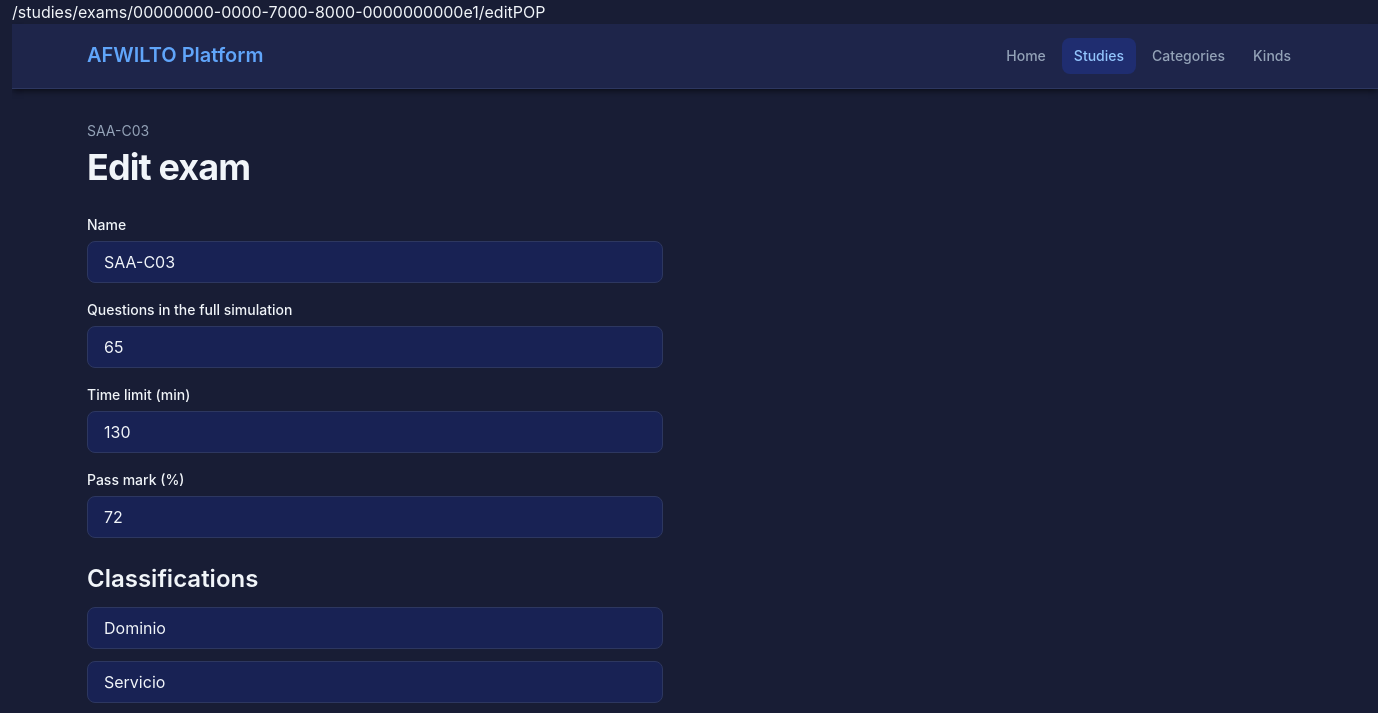
Test: ExamEditPage: server failures › other violations are shown as an alert
The width and height of the screenshot is (1378, 713).
Replace the text in the number field labelled "Pass mark (%)" with "80" at (375, 517), box [87,496,663,538]
(page scrolled)
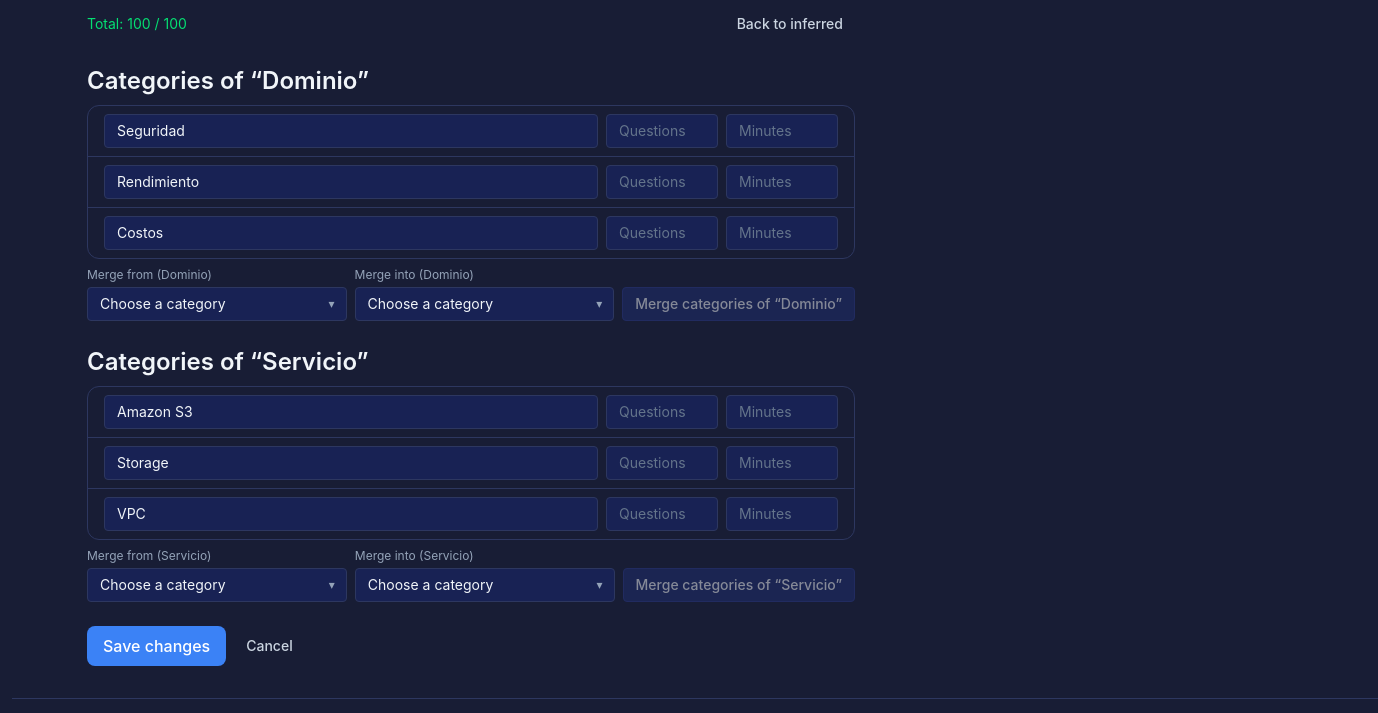
Click the button "Save changes".
click(157, 646)  # box [87,626,226,666]
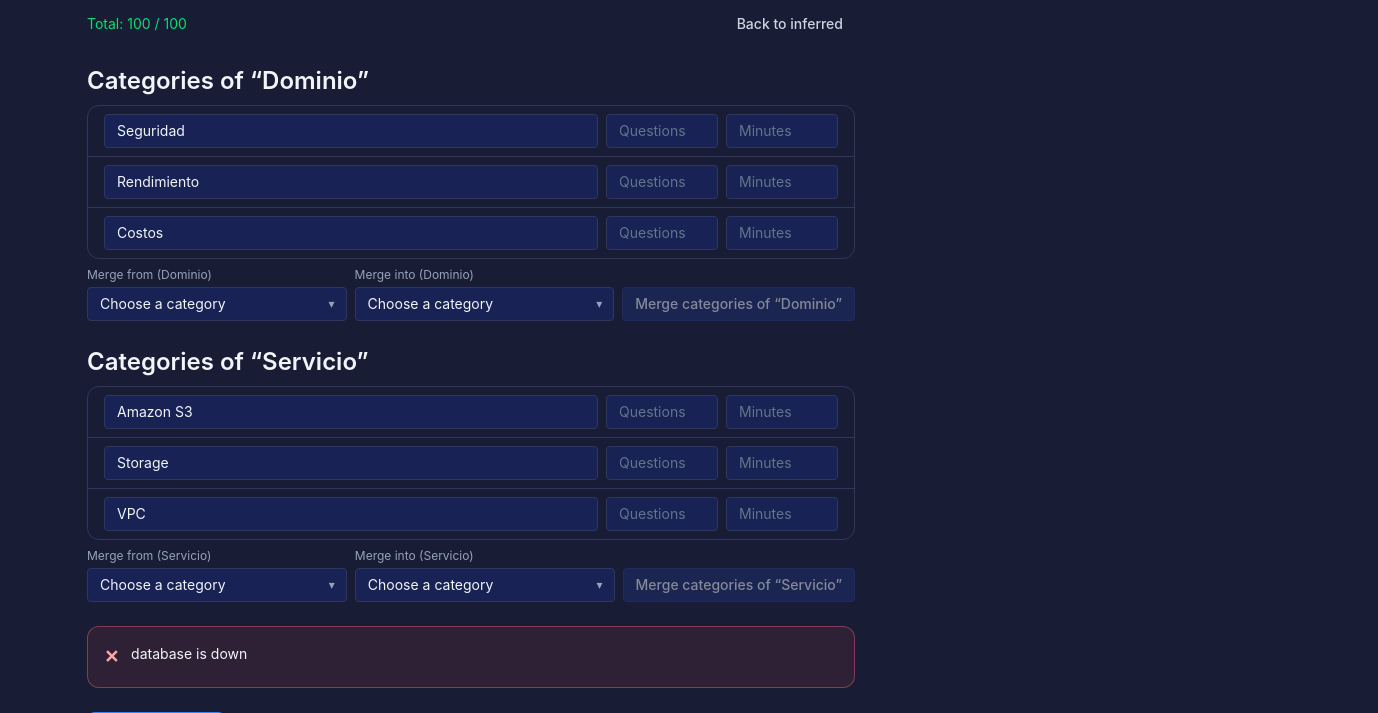
Result: the text "database is down" is shown at [131,645,247,662]
